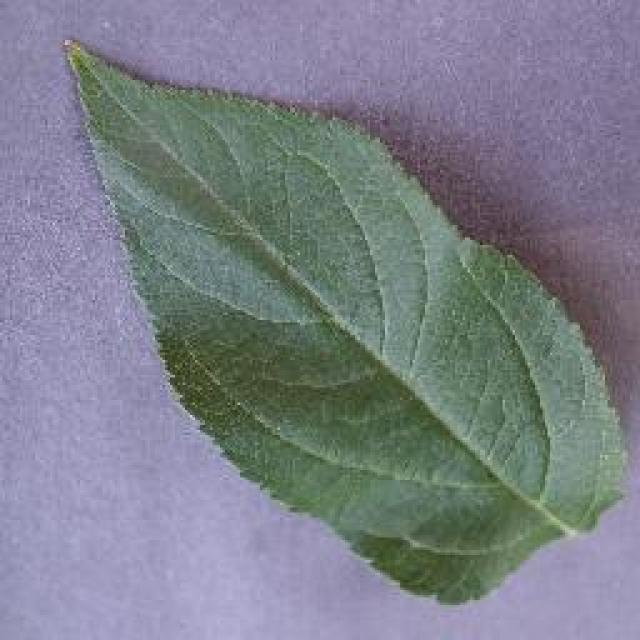apple healthy: (60, 33, 630, 605)
